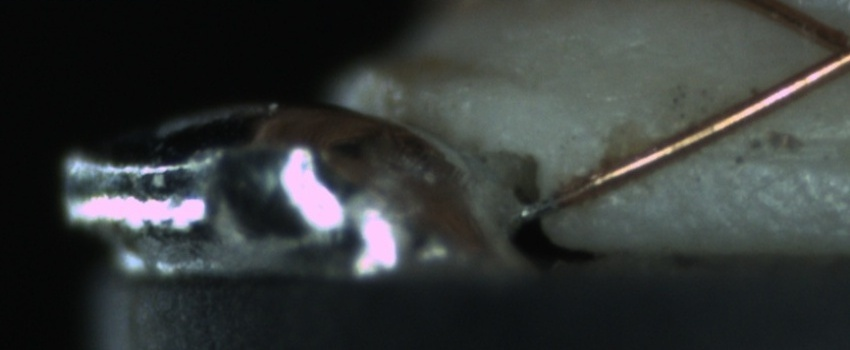CL: (799, 7, 850, 84)
DL: (705, 111, 849, 180)
TS: (519, 191, 557, 219)
